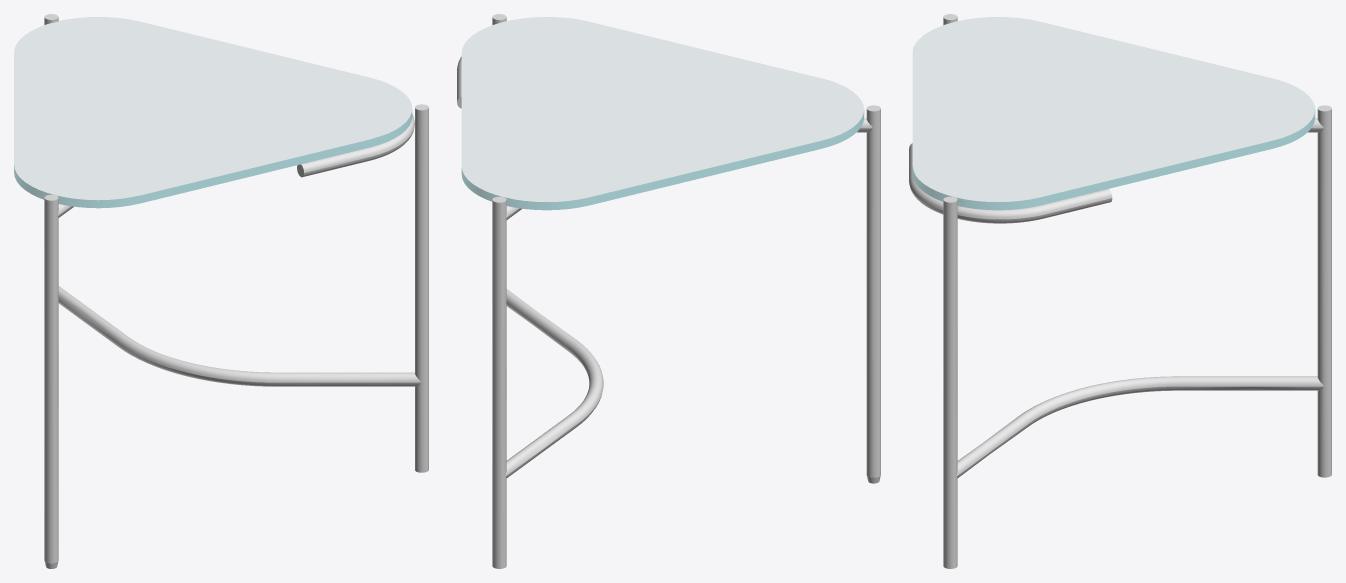
File: CoolWave2_mv.glb
3 views of the same model, side by side, from view 1: azimuth 30°, elevation 25°; view 2: azimuth 150°, elevation 25°; view 3: azimuth 270°, elevation 25° (orthographic).
Parts seen in each view (by area): view 1: CoolWave2_Top, CoolWave2_Leg; view 2: CoolWave2_Top, CoolWave2_Leg; view 3: CoolWave2_Top, CoolWave2_Leg.
Part boxes in pixels (left/top/right/bottom): CoolWave2_Top: left=14, top=17, right=412, bottom=208; CoolWave2_Leg: left=44, top=14, right=428, bottom=568; CoolWave2_Top: left=461, top=17, right=864, bottom=210; CoolWave2_Leg: left=457, top=14, right=880, bottom=568; CoolWave2_Top: left=912, top=17, right=1315, bottom=210; CoolWave2_Leg: left=909, top=14, right=1331, bottom=568.
Bounding box in the file's own units: 0.4974 × 0.4583 × 0.471.
